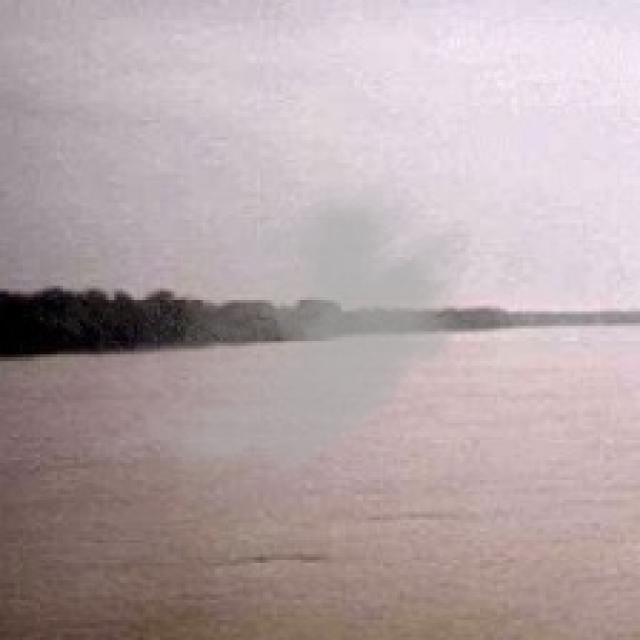Smoke: (88, 162, 486, 514)
